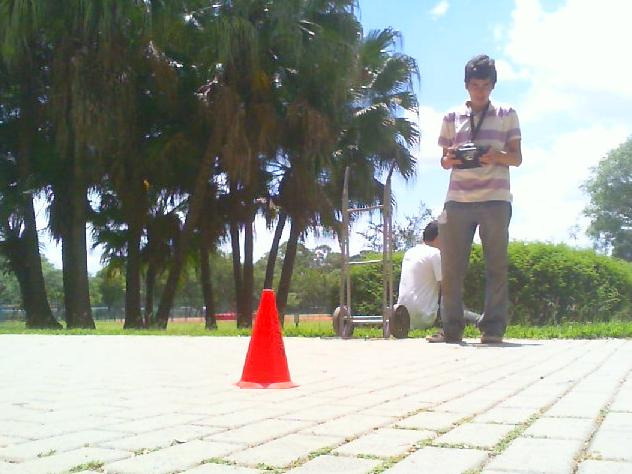0 cone: (234, 290, 299, 389)
